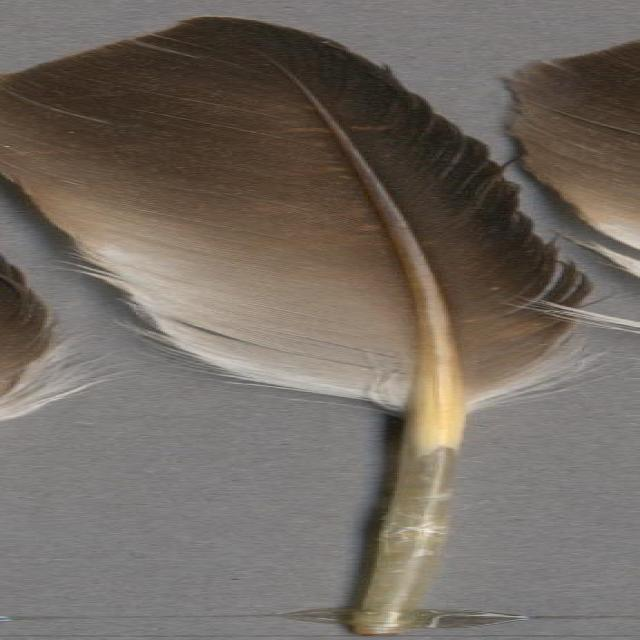feather: (0, 14, 610, 631)
